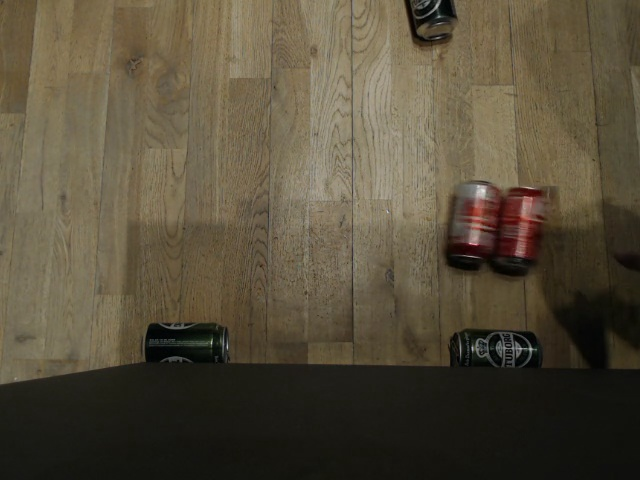beer: (450, 325, 547, 370), (137, 319, 235, 361), (397, 0, 461, 43)
cola: (444, 175, 504, 265), (495, 183, 555, 264)
